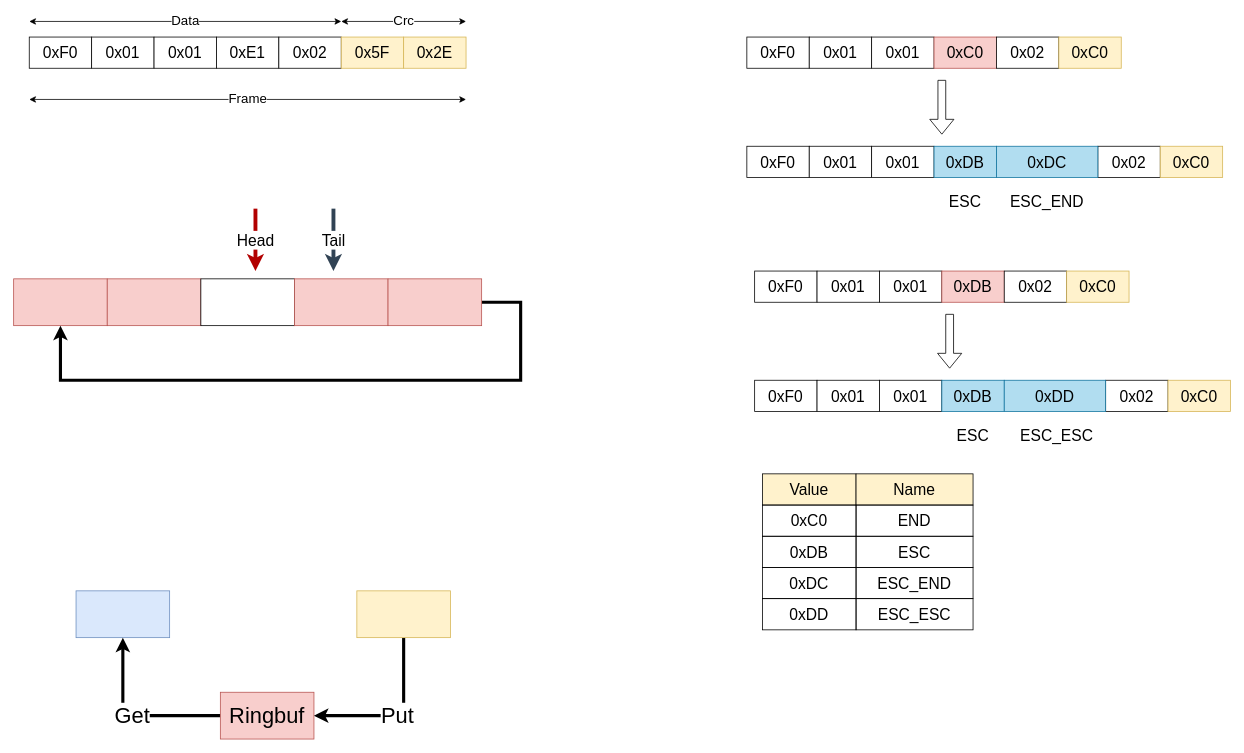
Image size: 1244x753. Some labels were removed from this diagram. The centre of each missing label's shape, as x and y in pixels:
Main: point (122, 614)
Uart_isr: point (403, 614)
